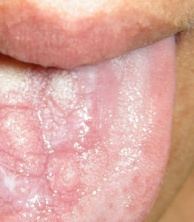SJS-TEN: (0, 83, 103, 214)
